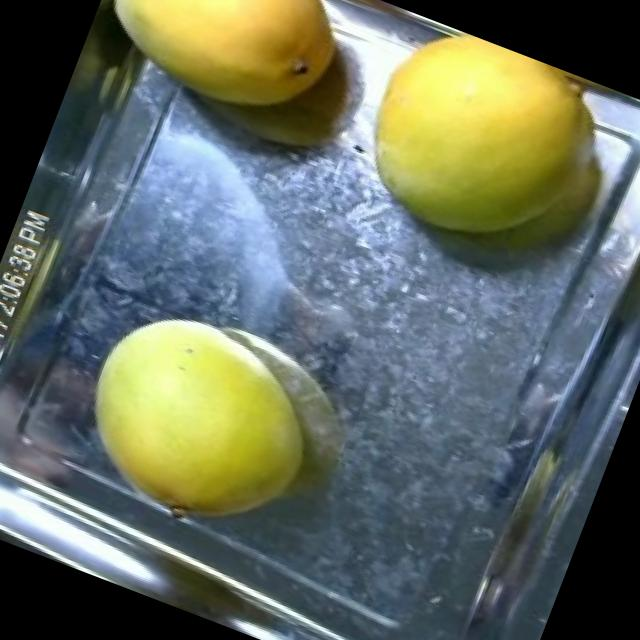fruit: (325, 8, 639, 294), (50, 280, 357, 564), (79, 0, 368, 150)
